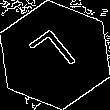L_SE: (25, 26, 85, 84)
